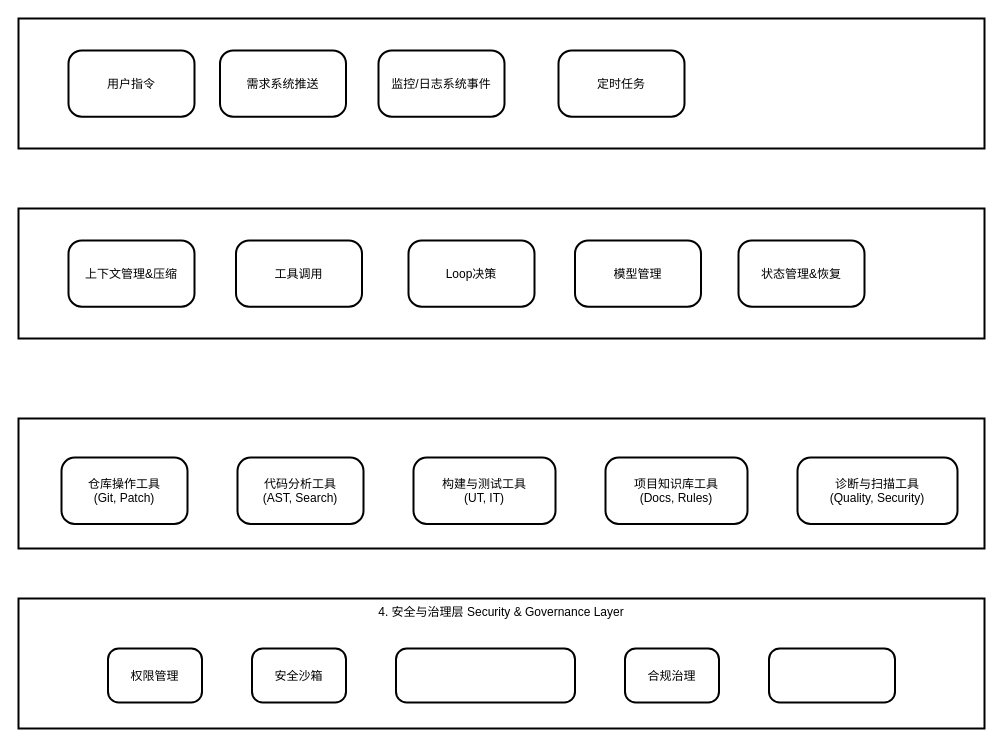
The diagram is 1002 pixels wide and 746 high, and some of its shapes have lost their labels. The box of each missing label's shape, as (x1, y1, x2, y2) in pixels:
1. 任务入口层 Task Entry Layer: (17, 17, 985, 149)
2. 任务执行层 Task Execution Layer: (17, 207, 985, 339)
内部工具 Internal Tools: (17, 417, 985, 549)
意图校验 & 行为审计: (394, 647, 576, 703)
数据访问控制: (768, 647, 896, 703)
